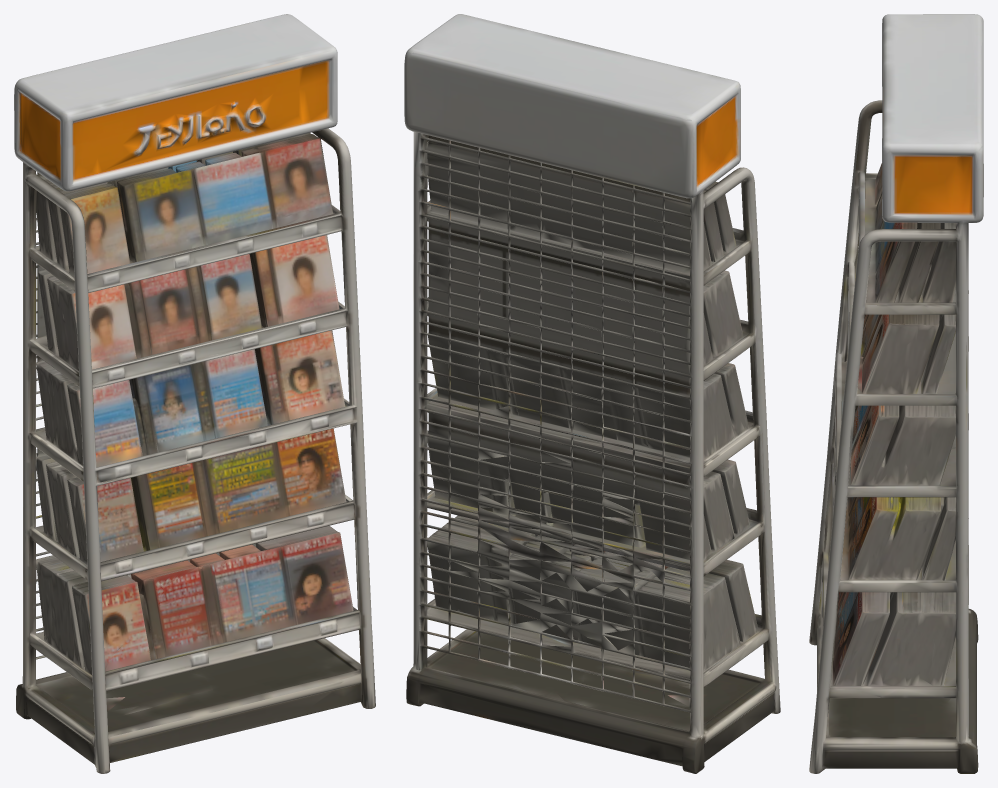
The model's file is bookshelves-1.glb.
3 views of the same model, side by side, from view 1: azimuth 30°, elevation 25°; view 2: azimuth 150°, elevation 25°; view 3: azimuth 270°, elevation 25° (orthographic). The views are drawn at different scales.
Parts seen in each view (by area): view 1: node_0; view 2: node_0; view 3: node_0.
Boxes of the visible parts, x1,y1,x2,y2 form: node_0: (14, 14, 375, 773); node_0: (404, 14, 780, 773); node_0: (809, 14, 983, 773).
Size of the model in its own units: 0.4933 by 1.07 by 0.2689.
1 material, 1 textured.
